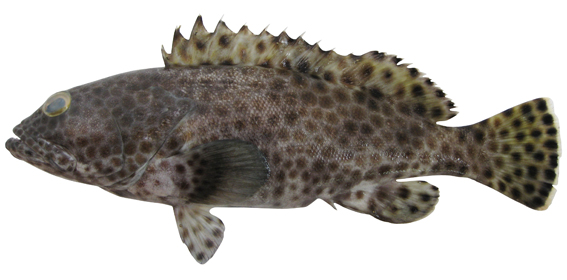fish: (5, 14, 563, 265)
